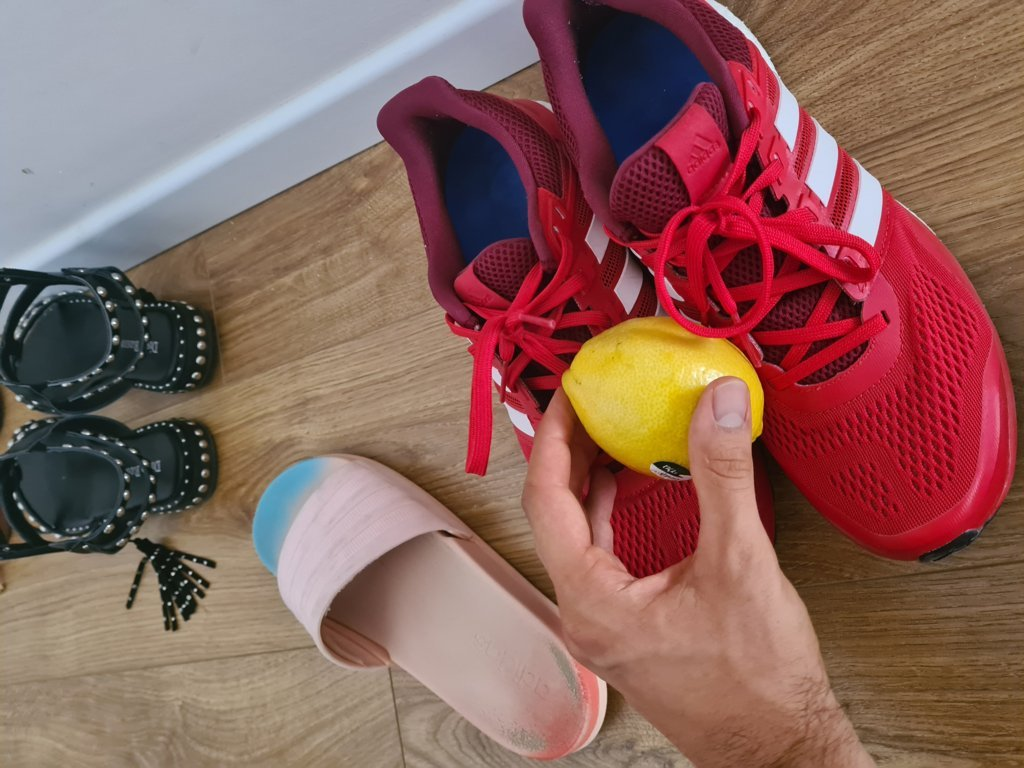lemon: (562, 314, 768, 465)
